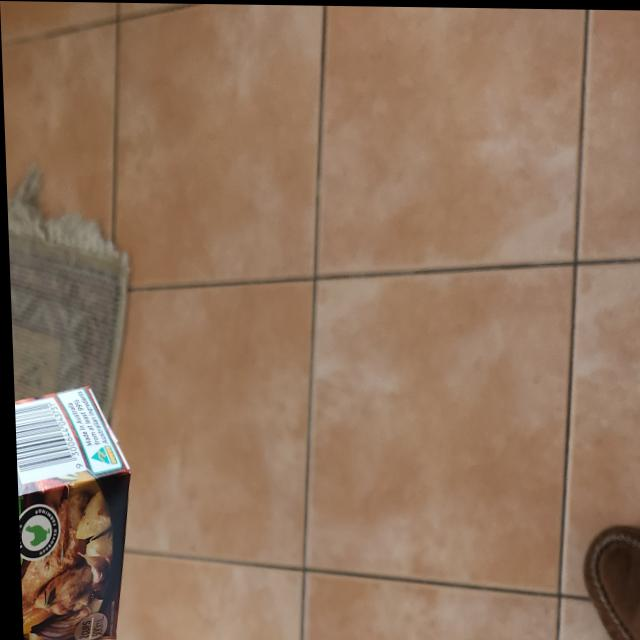chicken stock: (11, 378, 129, 640)
